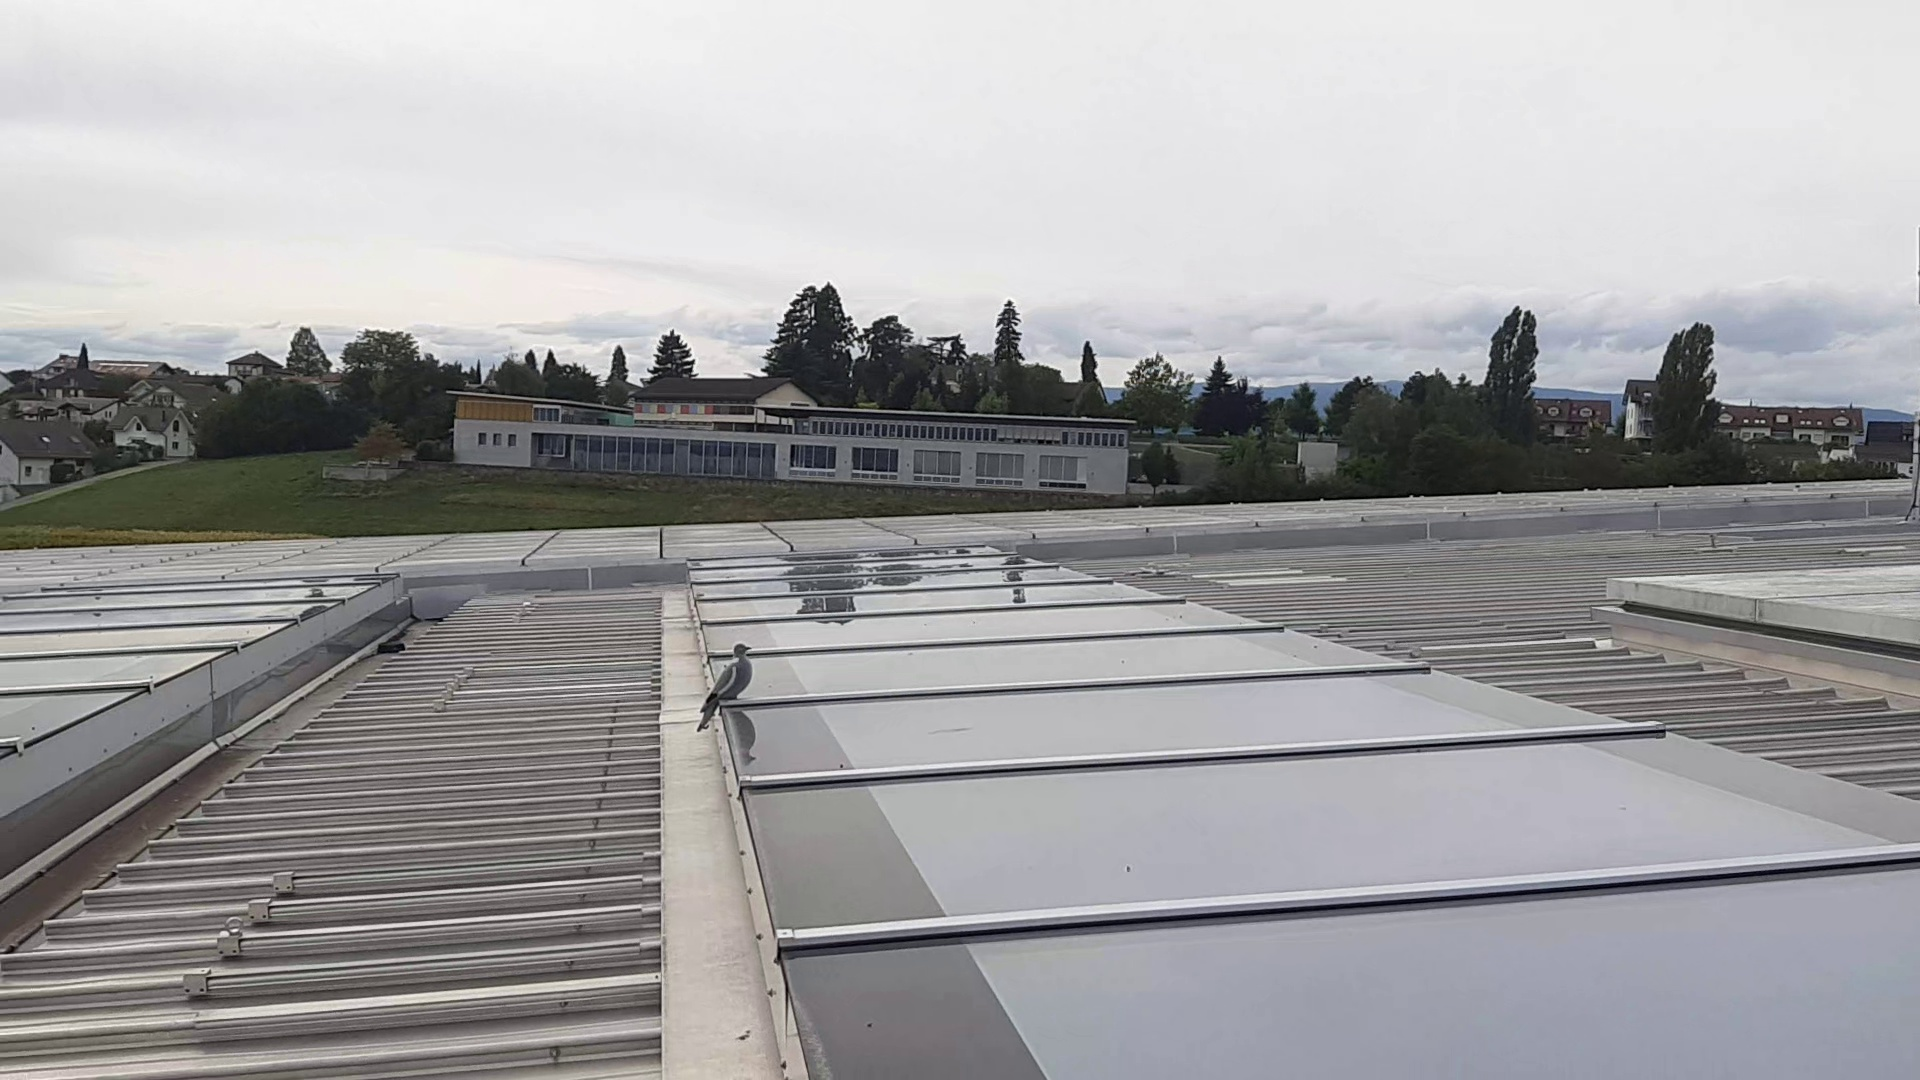Pigeon: (694, 642, 756, 727)
